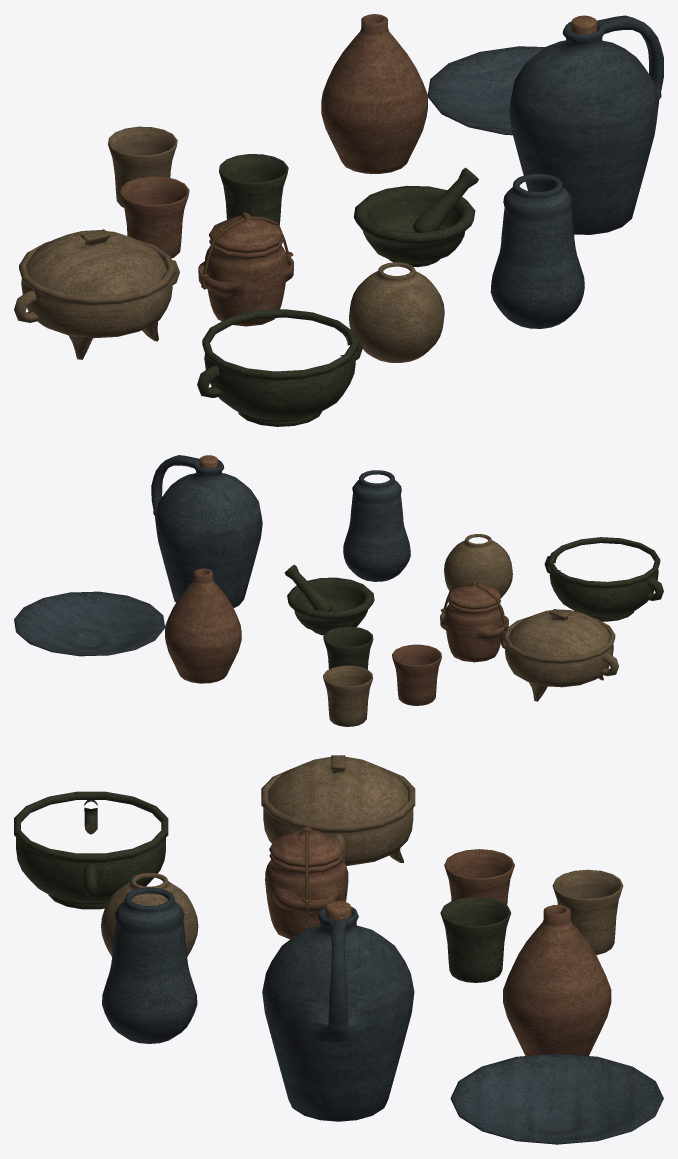
Rendered from vasijas glb.draco.glb.
3 renders of one model, top to bottom at view 1: azimuth 30°, elevation 25°; view 2: azimuth 150°, elevation 25°; view 3: azimuth 270°, elevation 25°, orthographic. The views are drawn at different scales.
Parts seen in each view (by area): view 1: Pottery_6, Pottery_4, Pottery_8, Pottery_2, Pottery_3, Pottery_5, Pottery_Mortar, Pottery_1, Pottery_9, Pottery_73, Pottery_7, Pottery_72; view 2: Pottery_6, Pottery_9, Pottery_4, Pottery_8, Pottery_2, Pottery_3, Pottery_5, Pottery_Mortar, Pottery_1, Pottery_72, Pottery_73, Pottery_7; view 3: Pottery_6, Pottery_9, Pottery_4, Pottery_8, Pottery_2, Pottery_3, Pottery_5, Pottery_7, Pottery_72, Pottery_73, Pottery_1.
Boxes of the visible parts, x1,y1,x2,y2 form: Pottery_6: (509, 15, 663, 234); Pottery_4: (14, 229, 179, 359); Pottery_8: (321, 14, 427, 173); Pottery_2: (490, 173, 584, 328); Pottery_3: (197, 309, 362, 426); Pottery_5: (198, 212, 293, 326); Pottery_Mortar: (353, 167, 478, 267); Pottery_1: (349, 262, 444, 362); Pottery_9: (428, 46, 545, 135); Pottery_73: (120, 176, 189, 258); Pottery_7: (219, 154, 288, 224); Pottery_72: (108, 126, 177, 207); Pottery_6: (151, 455, 262, 607); Pottery_9: (14, 591, 164, 656); Pottery_4: (499, 609, 618, 701); Pottery_8: (165, 568, 241, 683); Pottery_2: (343, 470, 410, 581); Pottery_3: (544, 537, 663, 621); Pottery_5: (440, 580, 508, 662); Pottery_Mortar: (284, 564, 374, 635); Pottery_1: (444, 534, 512, 598); Pottery_72: (323, 665, 373, 726); Pottery_73: (392, 644, 441, 705); Pottery_7: (323, 626, 373, 669); Pottery_6: (262, 900, 414, 1121); Pottery_9: (450, 1053, 663, 1144); Pottery_4: (261, 755, 415, 865); Pottery_8: (503, 905, 611, 1055); Pottery_2: (102, 887, 197, 1043); Pottery_3: (14, 791, 168, 909); Pottery_5: (265, 827, 348, 939); Pottery_7: (440, 897, 511, 982); Pottery_72: (552, 869, 623, 954); Pottery_73: (444, 849, 514, 904); Pottery_1: (101, 872, 198, 956).
Bounding box in the file's own units: 2.05 × 0.5313 × 1.59.
1 material, 1 textured.
